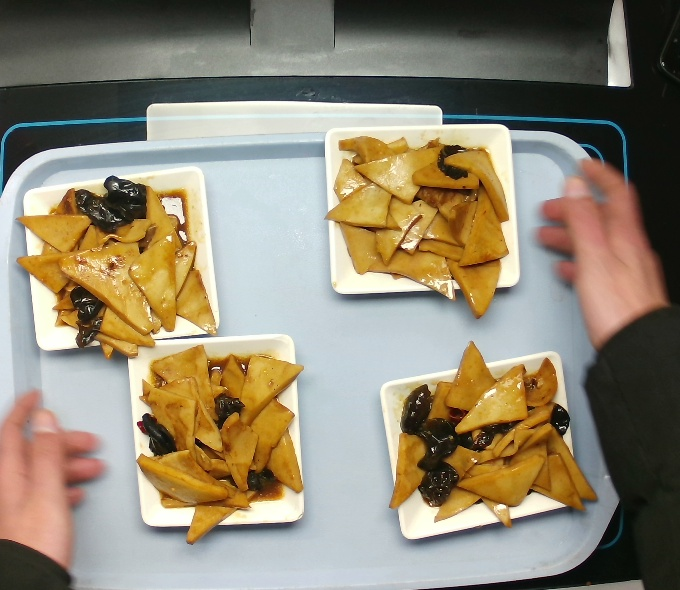wcq-QianYeDouFuChaoMuEr: (382, 334, 599, 539), (316, 121, 514, 323), (10, 176, 219, 367), (132, 338, 304, 550)
